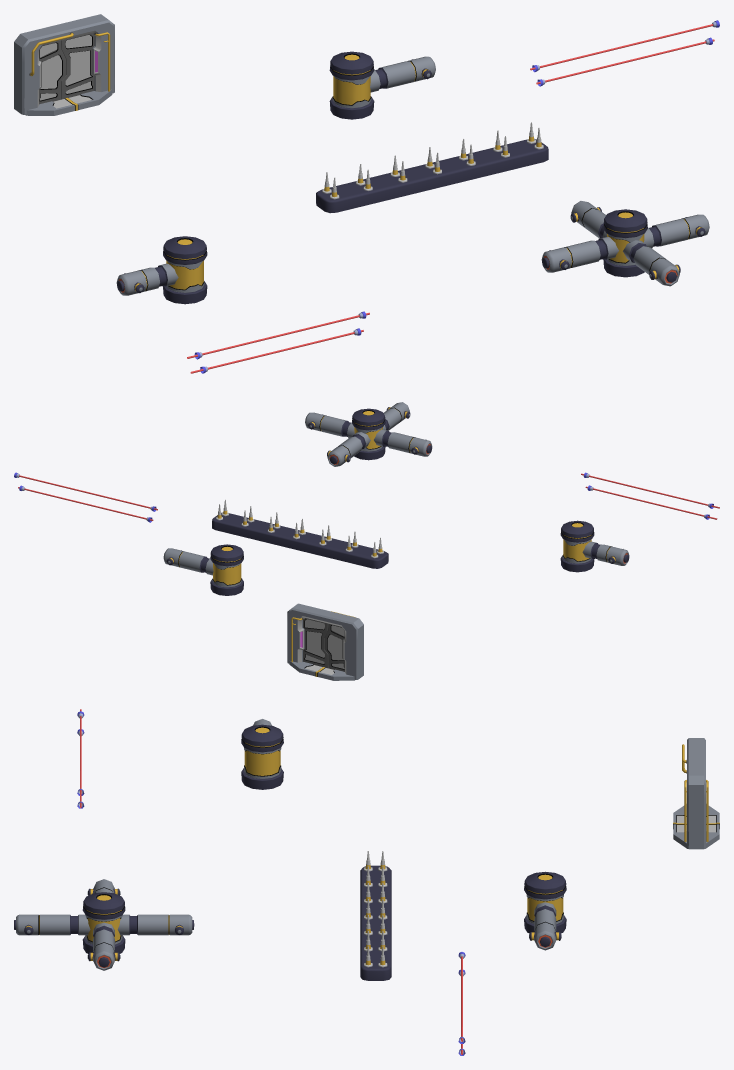
3 views of the same model, one above another, from view 1: azimuth 30°, elevation 25°; view 2: azimuth 150°, elevation 25°; view 3: azimuth 270°, elevation 25° (orthographic). The views are drawn at different scales.
Visible parts, largest first — view 1: Base (×2), pCylinder14 (×6), pCylinder13 (×3), Right, Left, Base5; view 2: Base (×2), pCylinder14 (×6), pCylinder13 (×3), Right, Left, Base5; view 3: pCylinder13 (×3), pCylinder14 (×4), Base (×2), Base5.
Part boxes in pixels (<box>): Base (×2): <box>14,14,548,213</box>; pCylinder14 (×6): <box>116,56,709,295</box>; pCylinder13 (×3): <box>163,51,647,304</box>; Right: <box>61,33,94,99</box>; Left: <box>39,40,66,104</box>; Base5: <box>25,89,112,115</box>; Base (×2): <box>212,512,388,679</box>; pCylinder14 (×6): <box>163,402,629,575</box>; pCylinder13 (×3): <box>210,408,594,595</box>; Right: <box>303,618,328,668</box>; Left: <box>324,623,344,671</box>; Base5: <box>289,661,354,680</box>; pCylinder13 (×3): <box>82,724,566,953</box>; pCylinder14 (×4): <box>14,902,556,970</box>; Base (×2): <box>360,738,705,980</box>; Base5: <box>673,804,719,848</box>.
Bounding box in the file's own units: 427 × 45.45 × 373.
